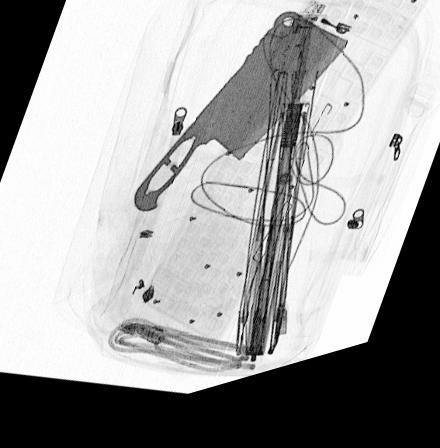Knife: (134, 27, 349, 218)
